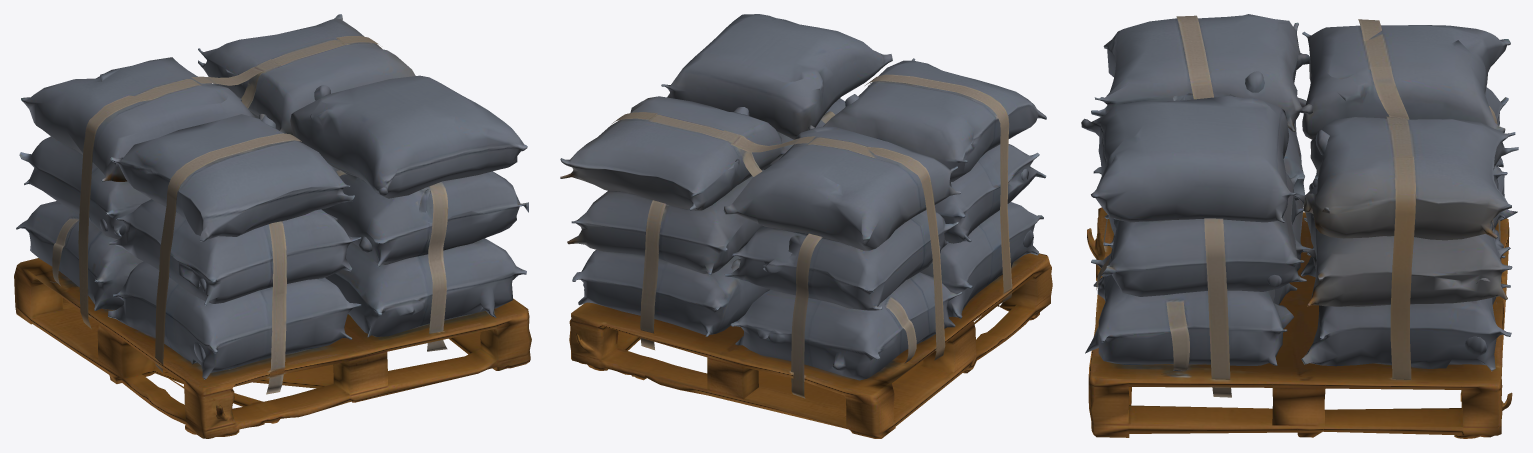
File: pallet.glb
3 views of the same model, side by side, from view 1: azimuth 30°, elevation 25°; view 2: azimuth 150°, elevation 25°; view 3: azimuth 270°, elevation 25° (orthographic). The views are drawn at different scales.
Visible parts, largest first — view 1: e8182e6a_81ce_4704_8486_a77ec3a0893c; view 2: e8182e6a_81ce_4704_8486_a77ec3a0893c; view 3: e8182e6a_81ce_4704_8486_a77ec3a0893c.
Part boxes in pixels (x1,y1,x2,y2): e8182e6a_81ce_4704_8486_a77ec3a0893c: [14, 14, 531, 438]; e8182e6a_81ce_4704_8486_a77ec3a0893c: [560, 14, 1052, 438]; e8182e6a_81ce_4704_8486_a77ec3a0893c: [1081, 14, 1518, 438].
Bounding box in the file's own units: 0.9897 × 0.7085 × 0.9995.
1 material, 1 textured.
